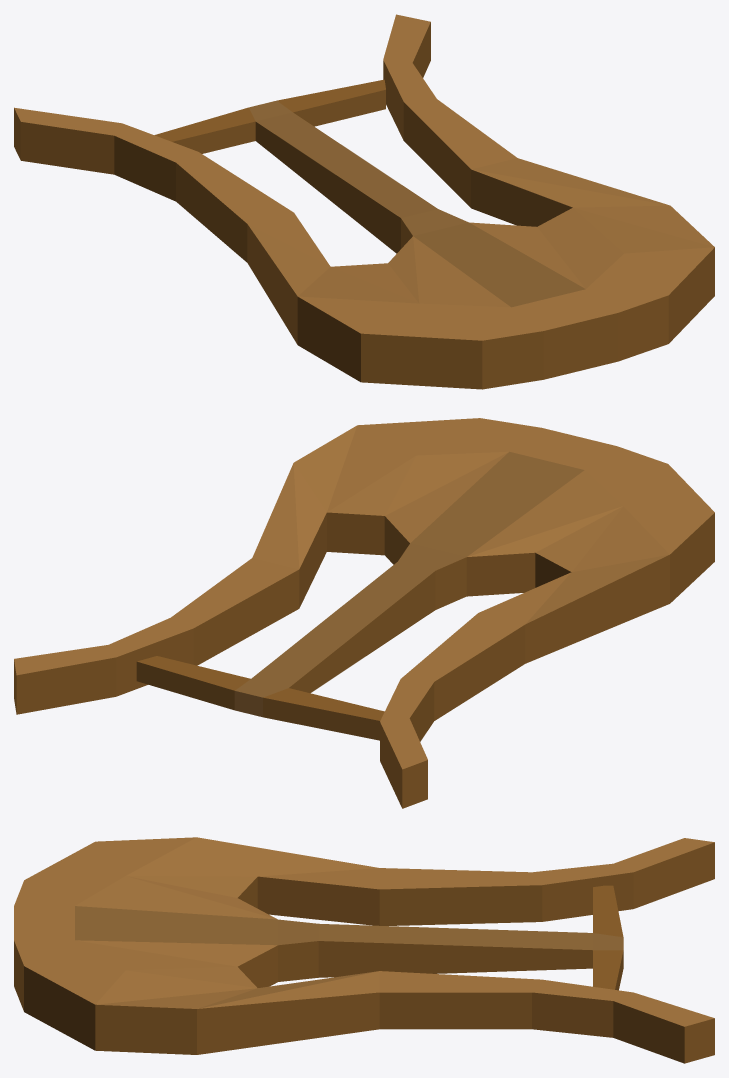
File: enchanted-lyre.gltf
3 views of the same model, one above another, from view 1: azimuth 30°, elevation 25°; view 2: azimuth 150°, elevation 25°; view 3: azimuth 270°, elevation 25° (orthographic). The views are drawn at different scales.
Size of the model in its own units: 44 by 5 by 69.
Materials: 1 (1 with a texture image).
